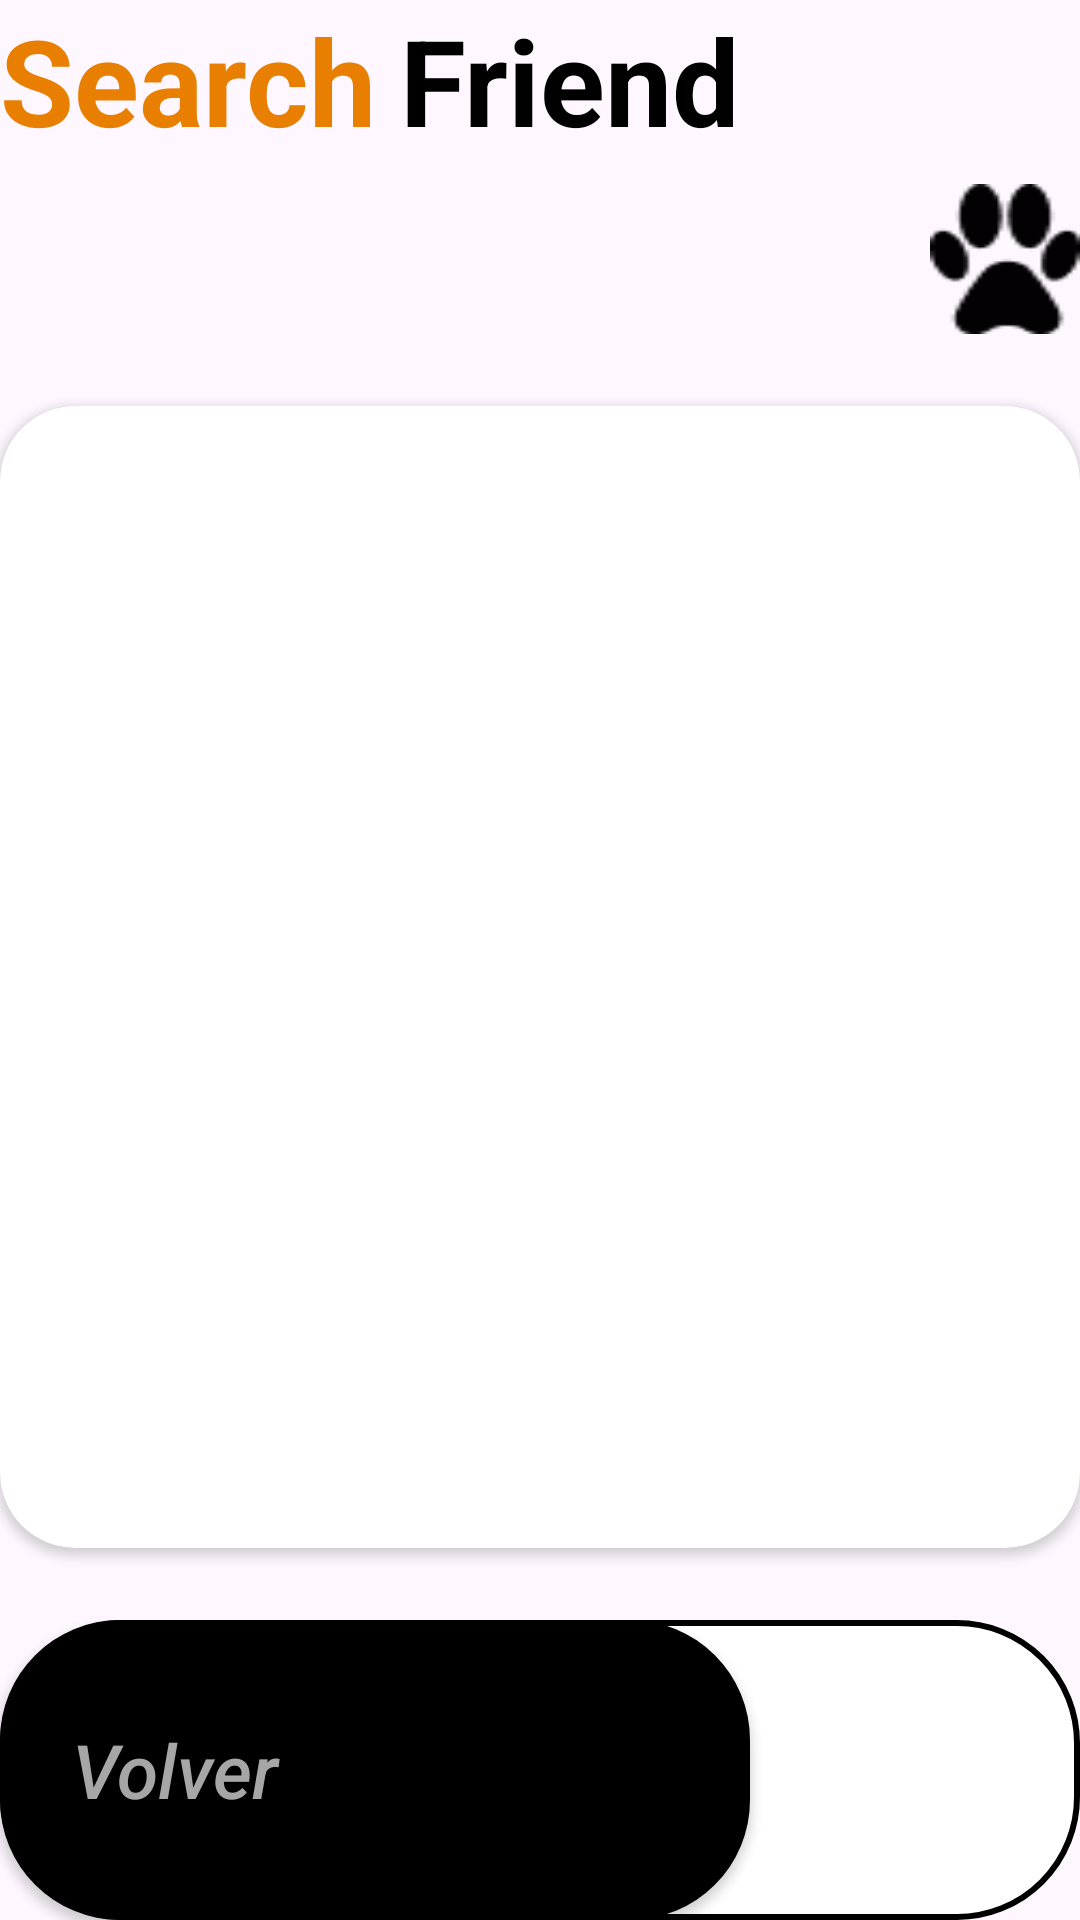

Icon bounding boxes for this 1080w x 1920h phone screenshot, format (x1, y1, x2, y2):
paw: (930, 184, 1080, 334)
